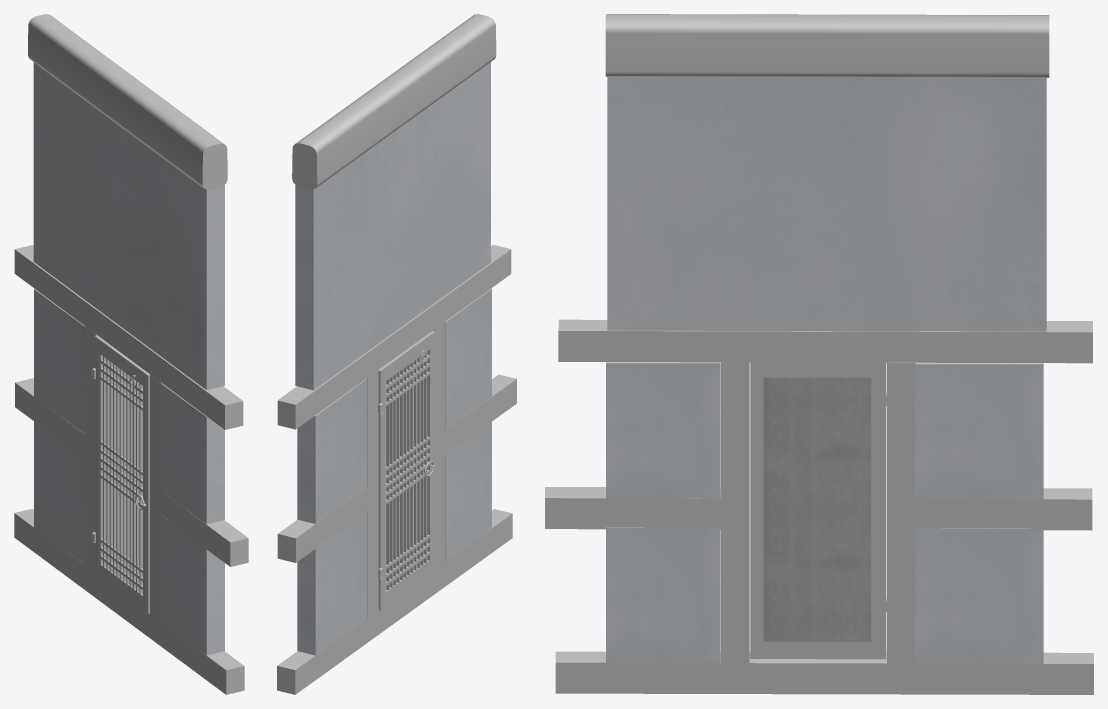
File: SM_RoomWall_003.fbx
3 views of the same model, side by side, from view 1: azimuth 30°, elevation 25°; view 2: azimuth 150°, elevation 25°; view 3: azimuth 270°, elevation 25° (orthographic). The views are drawn at different scales.
Visible parts, largest first — view 1: SM_RoomWall_003; view 2: SM_RoomWall_003; view 3: SM_RoomWall_003.
Part boxes in pixels (x1,y1,x2,y2): SM_RoomWall_003: (14,14,248,694); SM_RoomWall_003: (277,14,516,694); SM_RoomWall_003: (545,14,1093,694).
Size of the model in its own units: 22.62 by 316 by 425.
